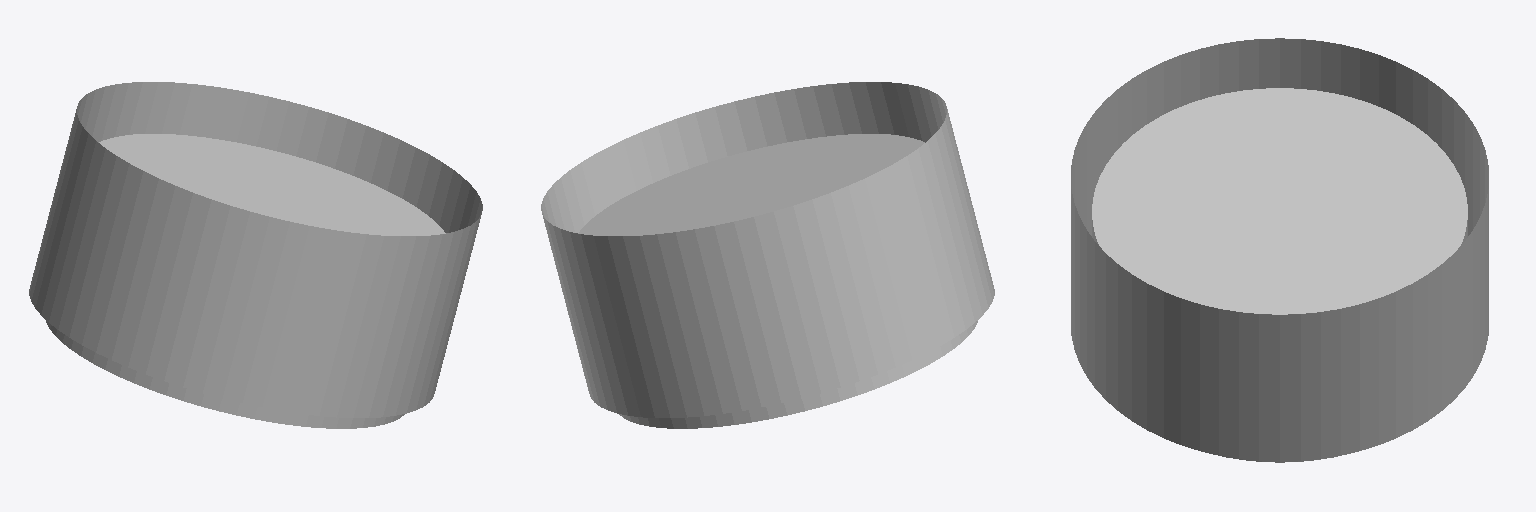
The model's file is drumsetV4_SmaolDrumBody.obj.
3 renders of one model, left to right at view 1: azimuth 30°, elevation 25°; view 2: azimuth 150°, elevation 25°; view 3: azimuth 270°, elevation 25°, orthographic.
Visible parts, largest first — view 1: drumsetV4_SmaolDrumBody_Cylinder; view 2: drumsetV4_SmaolDrumBody_Cylinder; view 3: drumsetV4_SmaolDrumBody_Cylinder.
Boxes of the visible parts, x1=… form: drumsetV4_SmaolDrumBody_Cylinder: x1=29, y1=82, x2=482, y2=428; drumsetV4_SmaolDrumBody_Cylinder: x1=541, y1=82, x2=994, y2=428; drumsetV4_SmaolDrumBody_Cylinder: x1=1071, y1=38, x2=1488, y2=462.
Size of the model in its own units: 1.11 by 0.7719 by 1.01.